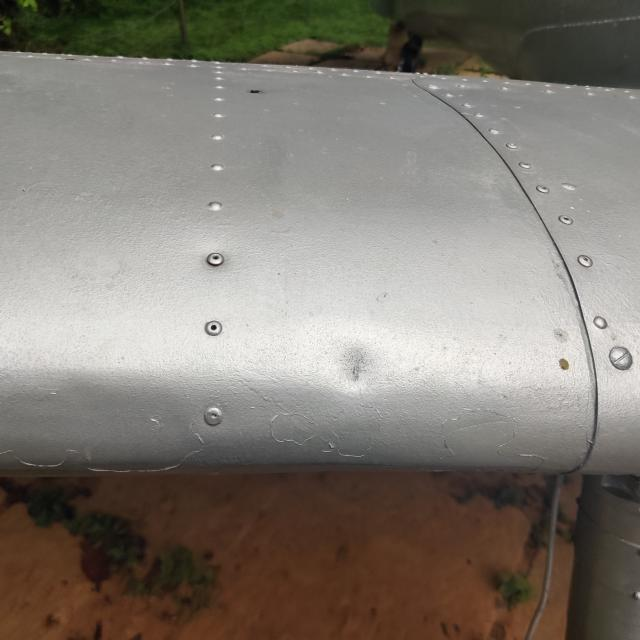dent: (303, 318, 404, 416)
